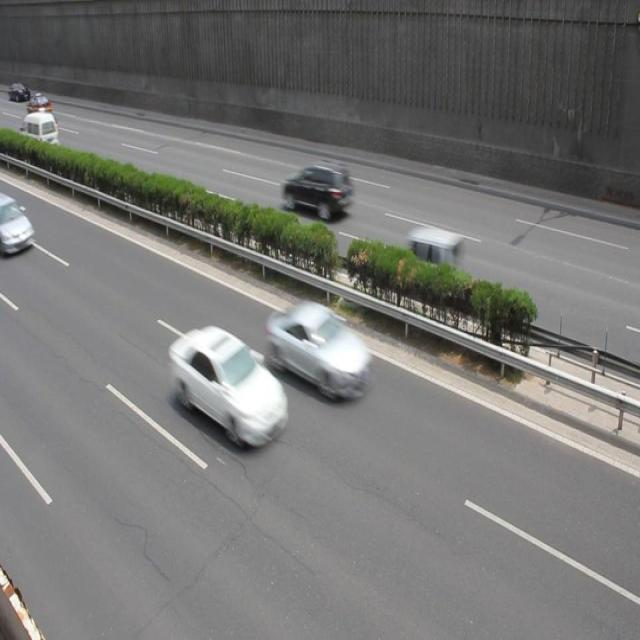car: (170, 324, 291, 451), (268, 300, 372, 402), (392, 227, 466, 287), (282, 160, 353, 220), (1, 192, 35, 256)
truck: (20, 111, 60, 156)
